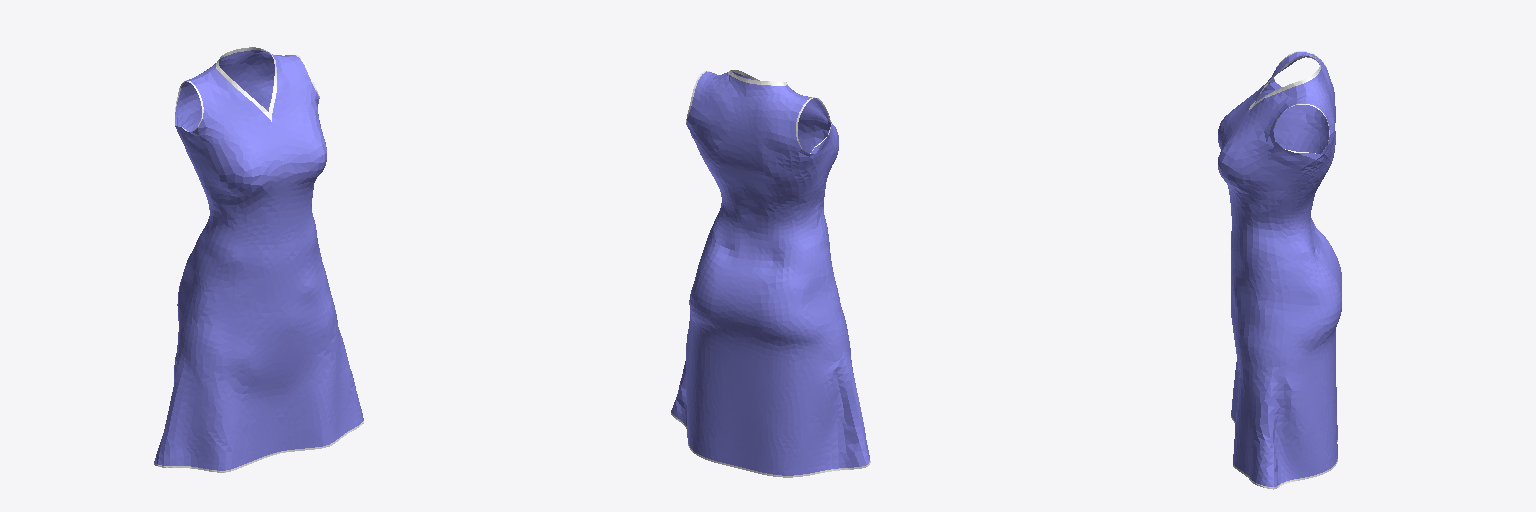
Rendered from minidress 12.obj.
3 views of the same model, side by side, from view 1: azimuth 30°, elevation 25°; view 2: azimuth 150°, elevation 25°; view 3: azimuth 270°, elevation 25° (orthographic).
Parts seen in each view (by area): view 1: Default; view 2: Default; view 3: Default.
Part boxes in pixels (left/top/right/bottom): Default: left=154, top=47, right=363, bottom=472; Default: left=671, top=70, right=870, bottom=477; Default: left=1218, top=51, right=1341, bottom=489.
Size of the model in its own units: 54.29 by 98.74 by 29.11.